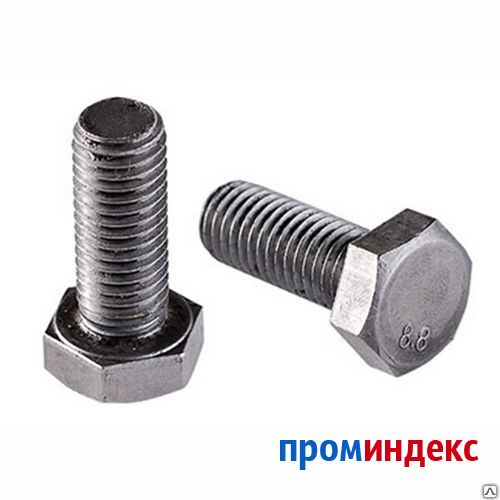screw: (199, 180, 473, 378), (42, 96, 205, 404)
